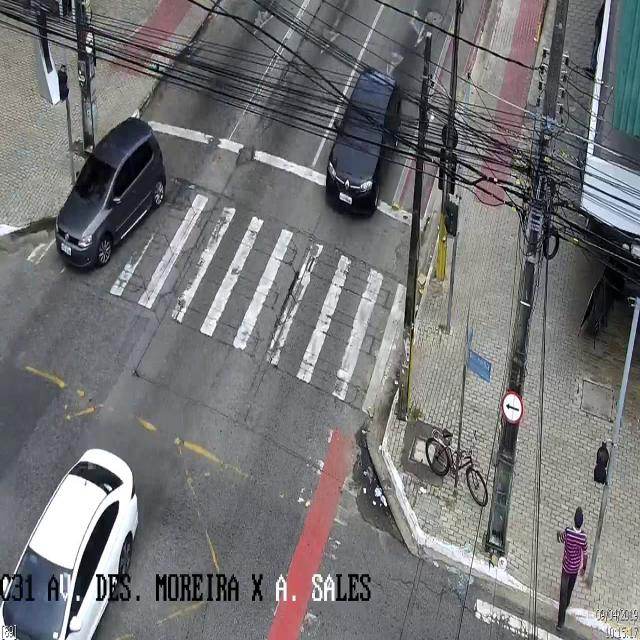Car: (2, 448, 138, 639), (56, 116, 166, 274), (326, 69, 400, 219)
